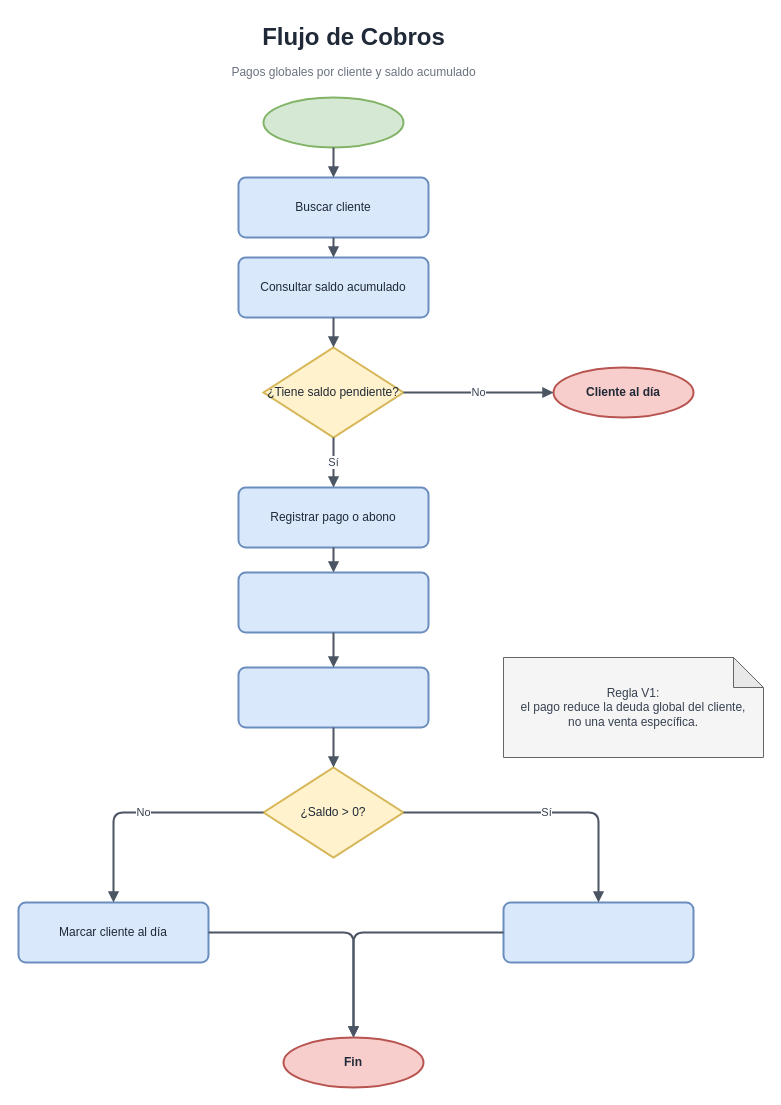
This 781x1105 diagram has some shape labels left out. The shapes that lost their labels are listed below. From the top down, each one's box as (x1, y1, x2, y2) in pixels, then its label:
(262, 96, 404, 148): Inicio
(237, 571, 429, 633): Registrar método, referencia y observaciones
(237, 666, 429, 728): Recalcular saldo: ventas - pagos
(502, 901, 694, 963): Mantener deuda pendiente
